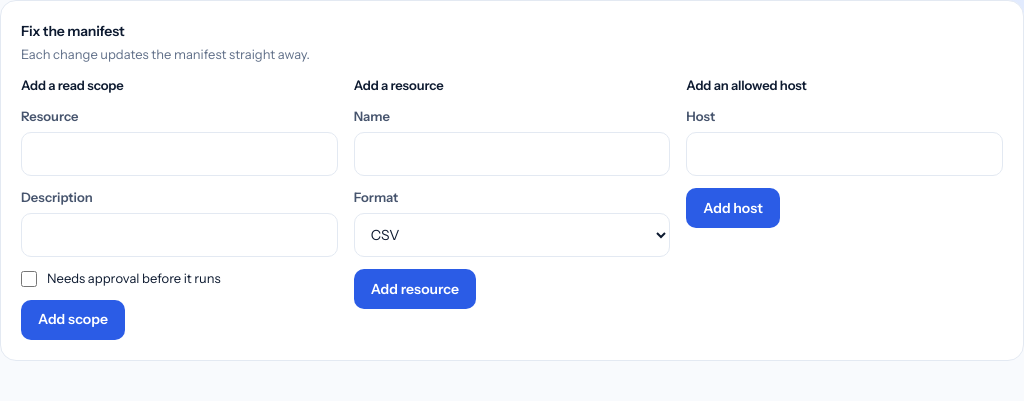
Test case: asks for the missing field in each form
Click the button "Add scope" at (73, 320), box [21,300,125,340]
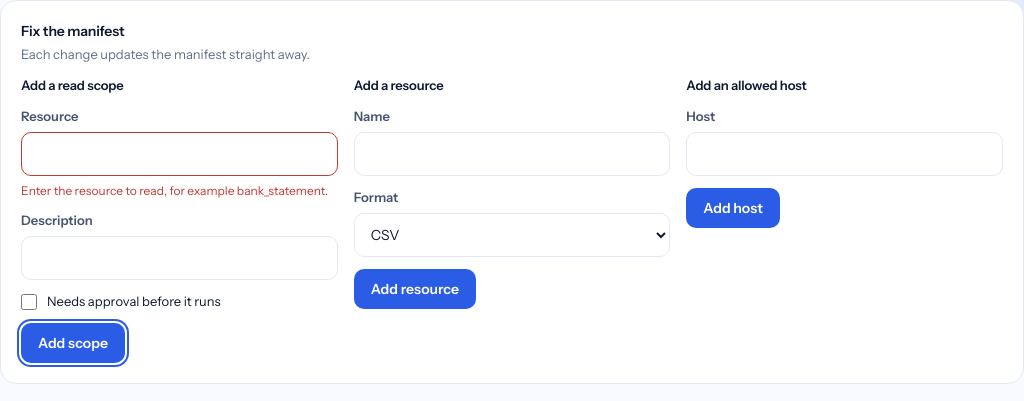
Click the button "Add resource" at (415, 289), box [354,269,476,309]
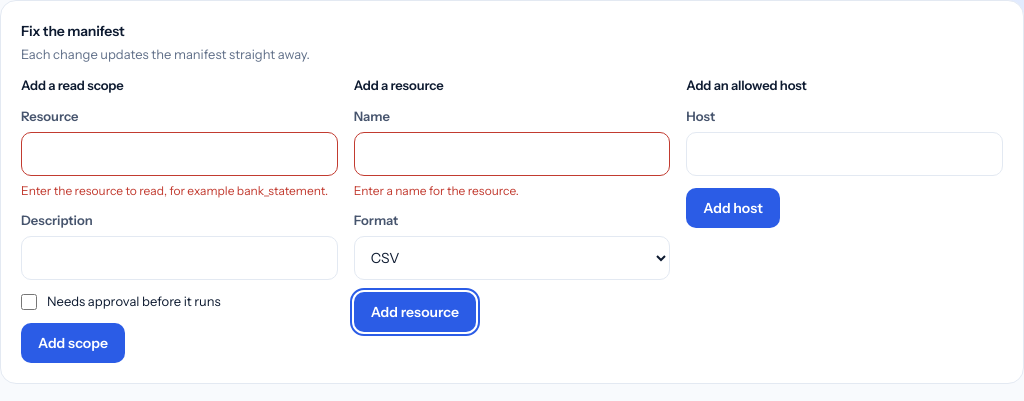
Click the button "Add host" at (733, 208), box [686,188,780,228]
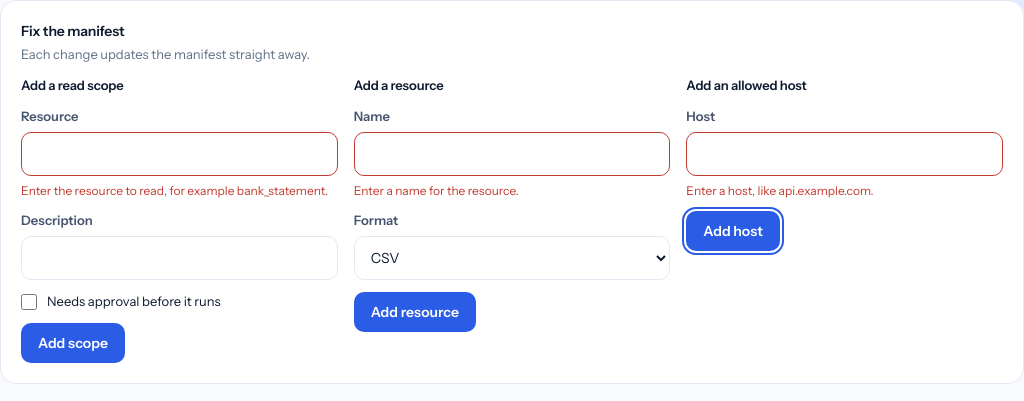
Check: the text "Enter the resource to read, for example bank_statement." is shown, box [21,182,338,199]
Check: the text "Enter a name for the resource." is shown, box [354,183,519,198]
Check: the text "Enter a host, like api.example.com." is shown, box [686,183,874,198]
